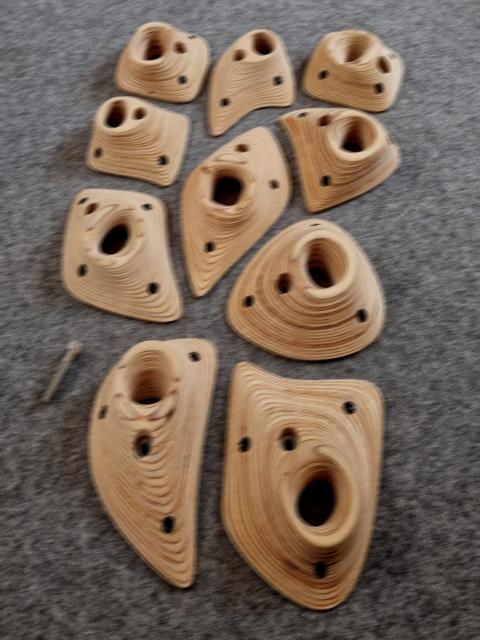pocket: (222, 362, 384, 609), (89, 338, 217, 587), (227, 219, 385, 360), (181, 127, 291, 296), (62, 189, 182, 322), (279, 108, 400, 212), (87, 96, 190, 186), (208, 29, 295, 135), (303, 29, 403, 112), (115, 22, 210, 102)
